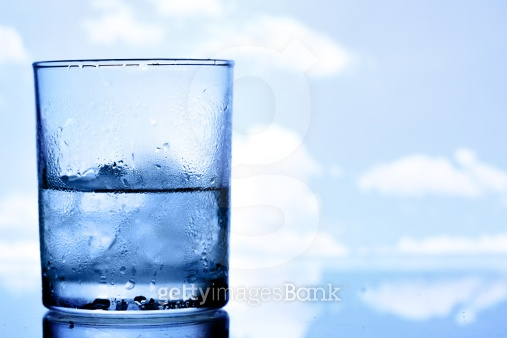glass of water: (27, 53, 240, 338)
